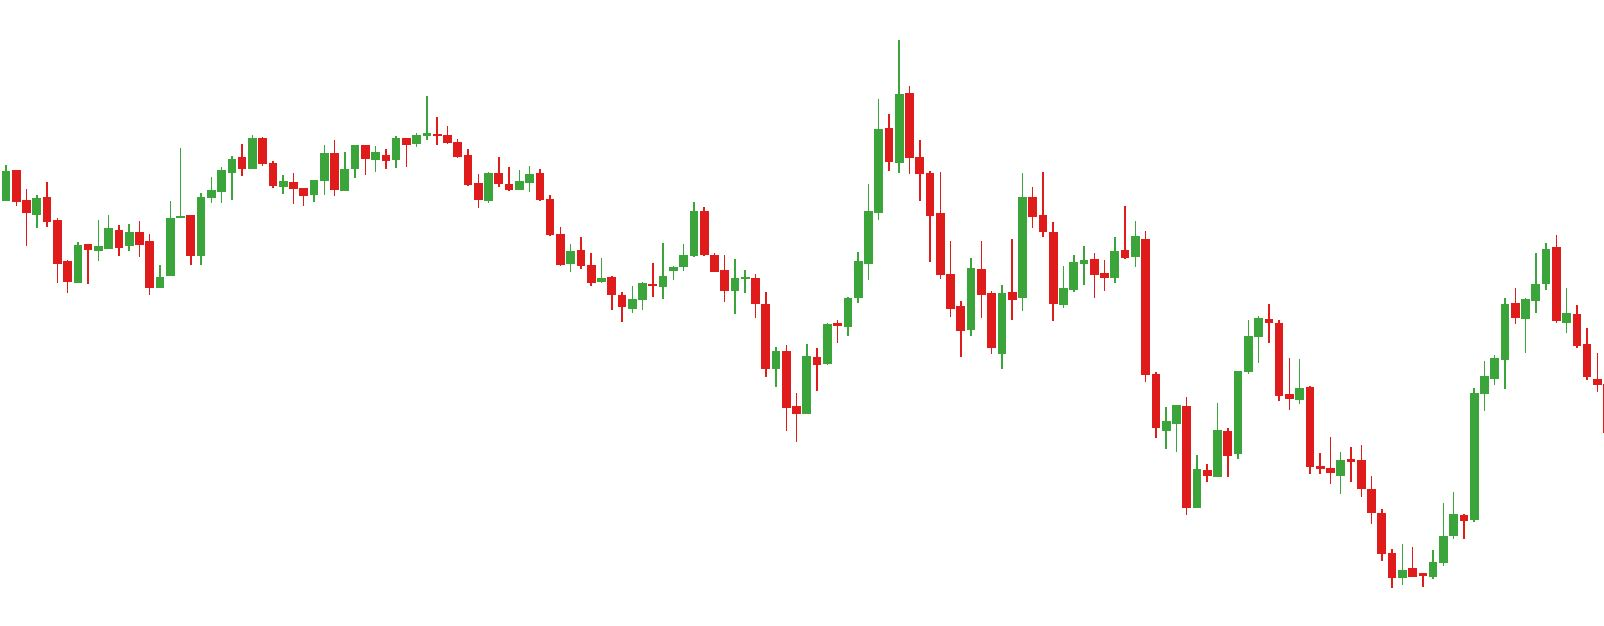buy: (63, 231, 164, 300), (955, 274, 1008, 373)
